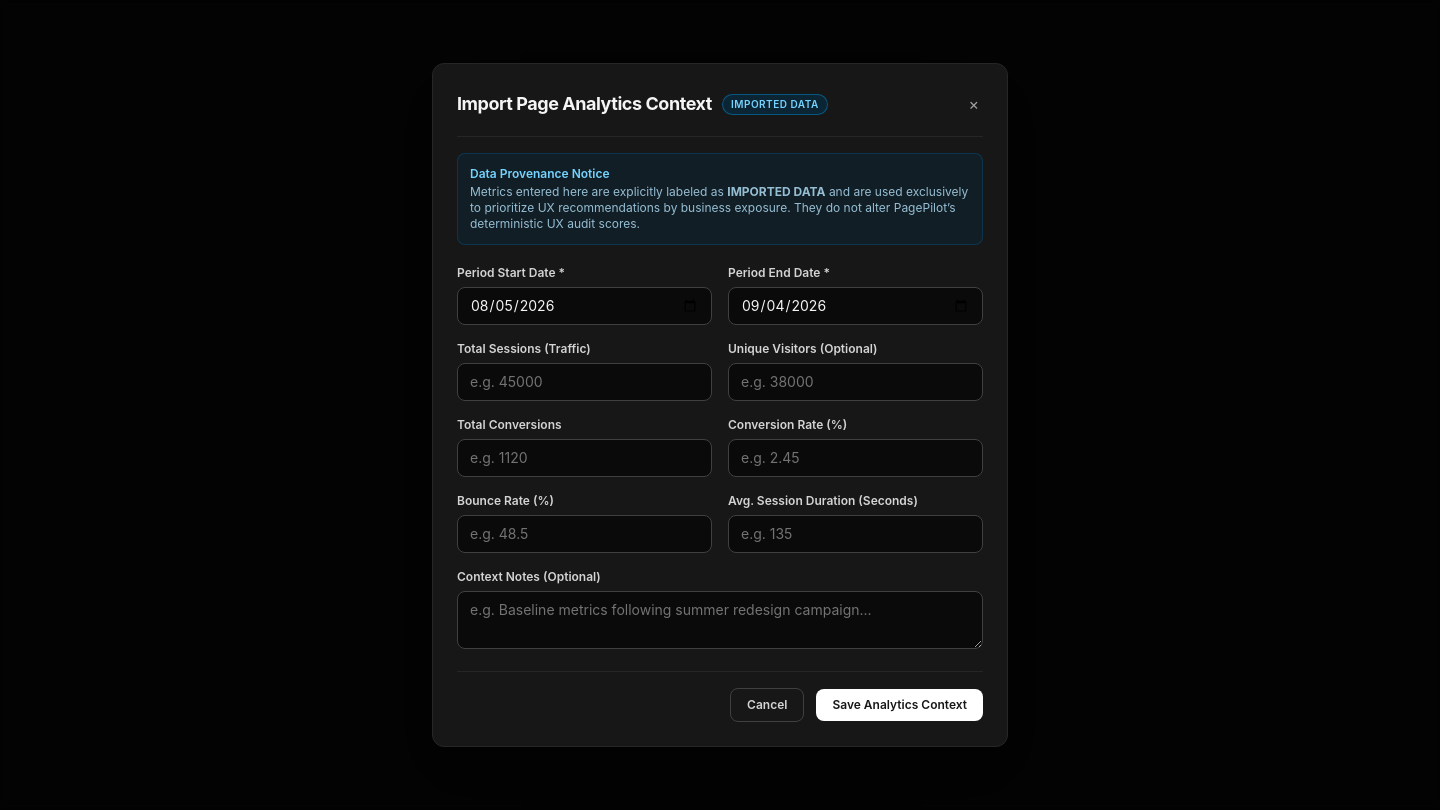
it: Page Analytics UI › ImportAnalyticsModal Component › auto-calculates conversion rate from sessions and conversions
Type "1000" into the number field labelled "Total Sessions (Traffic)" at (584, 382), box [457,363,712,401]
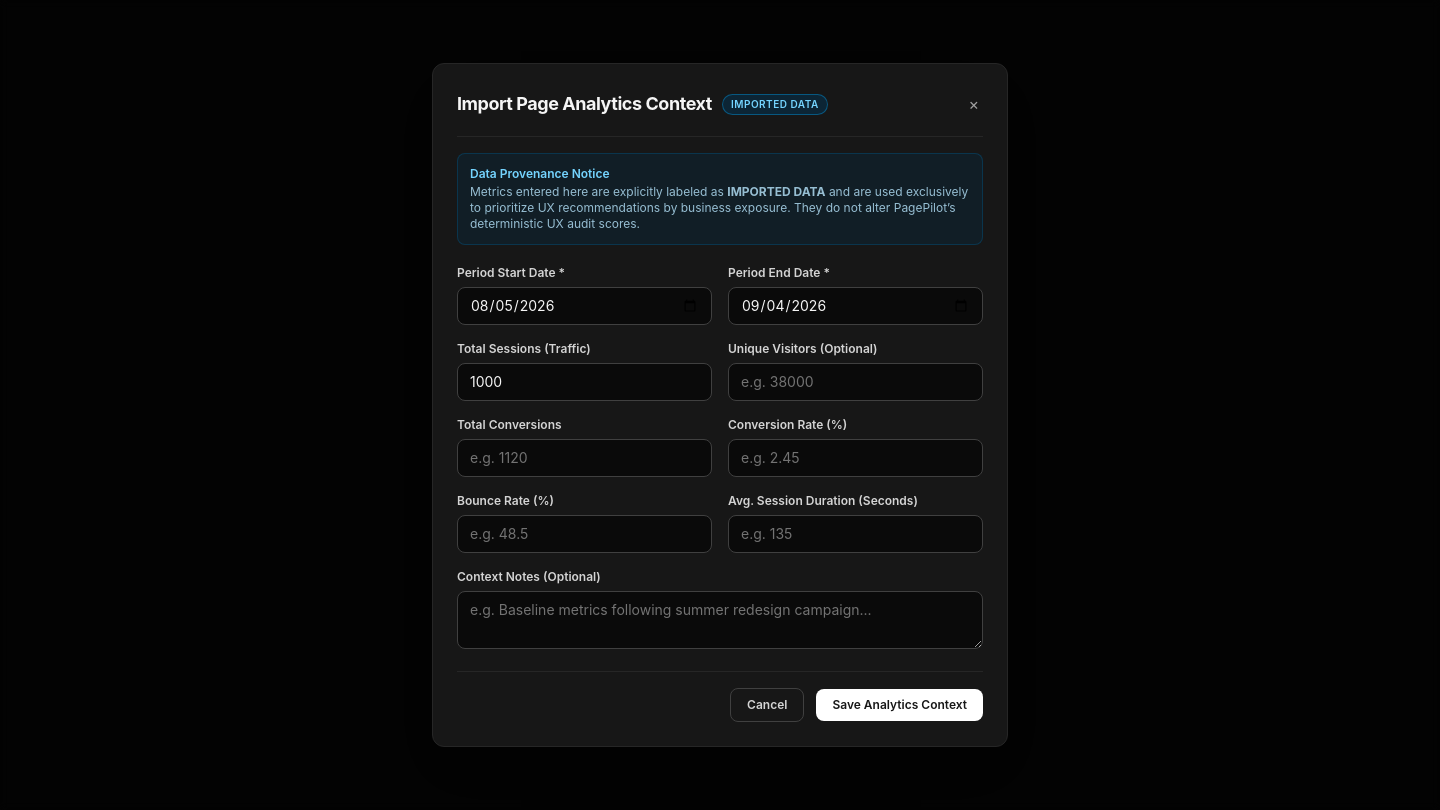
Type "50" into the number field labelled "Total Conversions" at (584, 458), box [457,439,712,477]
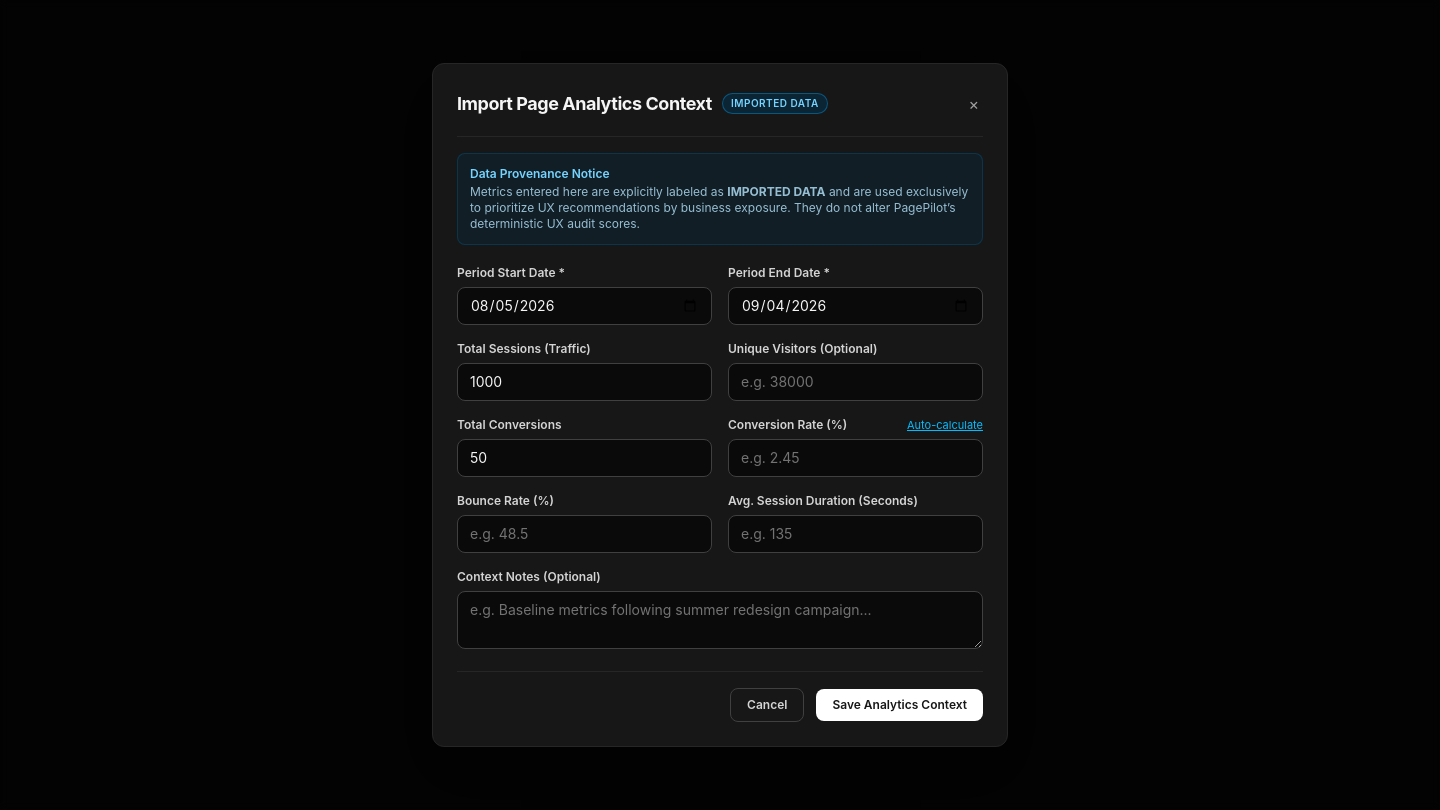
Click the button "Auto-calculate" at (945, 425), box [907,417,983,433]
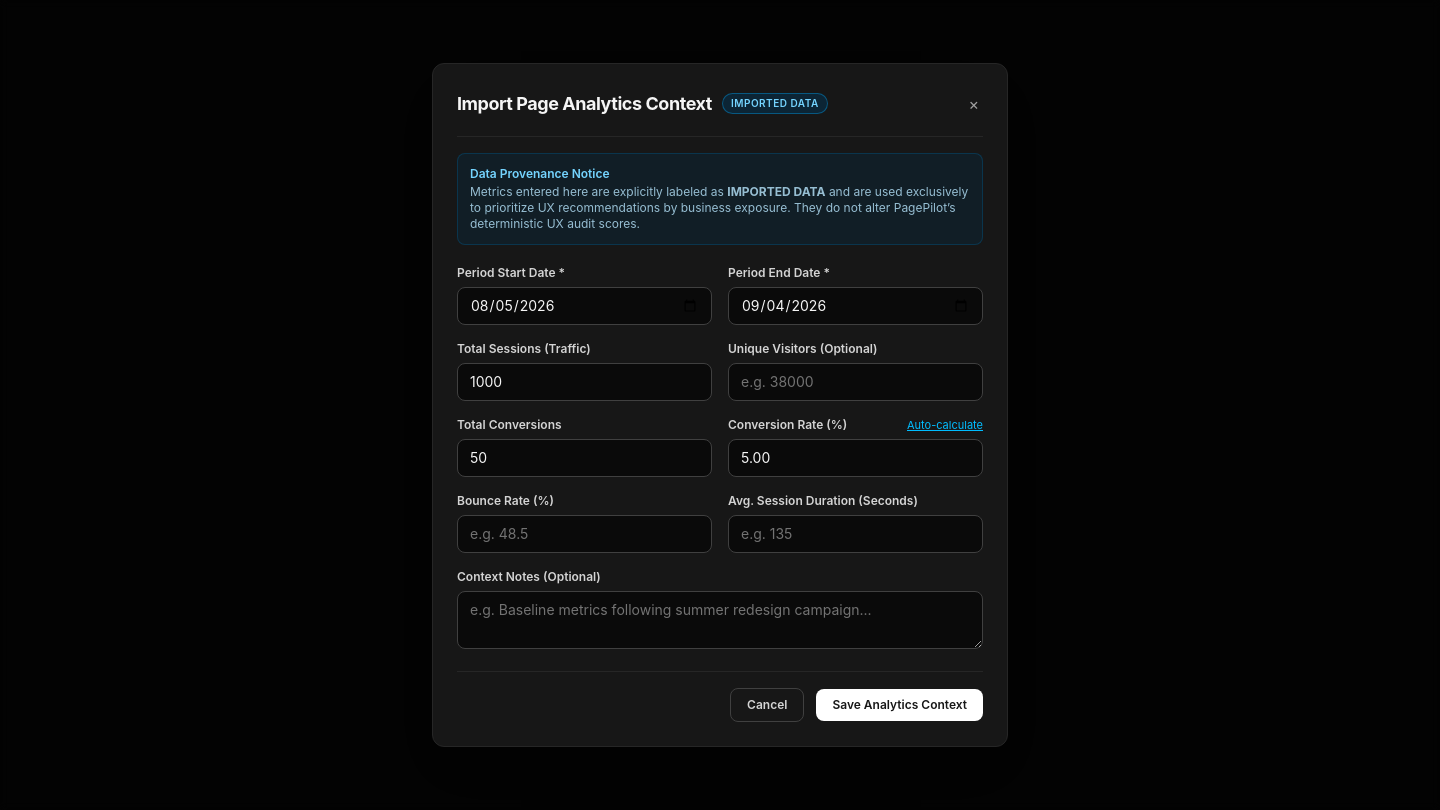
Result: the number field labelled "Conversion Rate (%)" holds "5.00" at [728,439,983,477]
